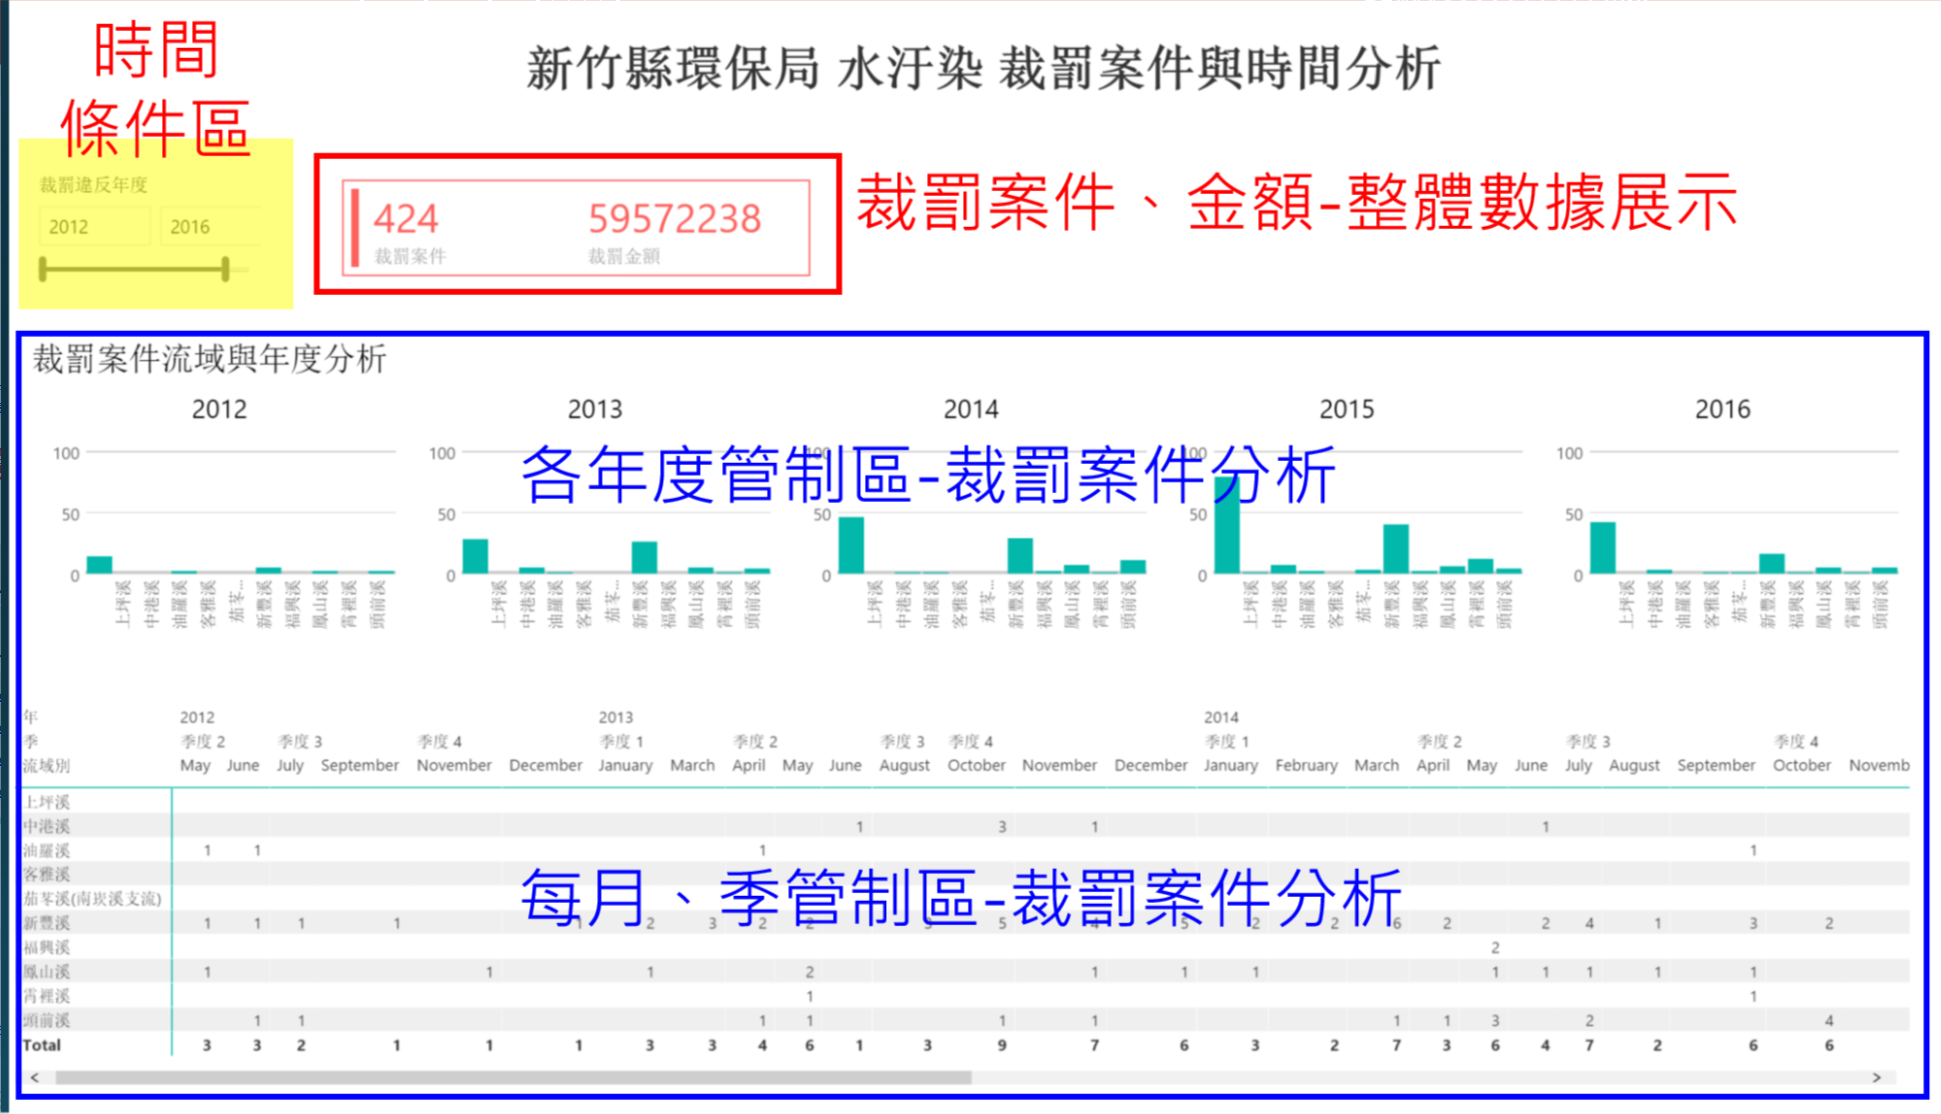

Layout of this report page (visuals, bound fields, positions):
{"tool":"powerbi","page":{"name":"2.2水汙染_裁罰案件時間分析","canvas":[1280,720],"ordinal":1},"visuals":[{"type":"slicer","fields":{"Values":["環保署_裁罰資料_水汙染.違反時間_年"]},"box":[7.7,90.7,164.8,150.4],"z":1},{"type":"textbox","box":[7.7,0,1271.9,64.1],"z":3},{"type":"pivotTable","fields":{"Values":["CountNonNull(環保署_裁罰資料_水汙染.列管狀況)"],"Columns":["環保署_裁罰資料_水汙染.違反時間.變化.日期階層.年","環保署_裁罰資料_水汙染.違反時間.變化.日期階層.季","環保署_裁罰資料_水汙染.違反時間.變化.日期階層.月","環保署_裁罰資料_水汙染.違反時間.變化.日期階層.日"],"Rows":["環保署_裁罰資料_水汙染.流域別"]},"box":[0,441.3,1258.6,261],"z":6},{"type":"multiRowCard","fields":{"Values":["環保署_裁罰資料_水汙染.事業名稱","環保署_裁罰資料_水汙染.裁罰金額"]},"box":[215.7,96.2,318.5,88.5],"z":7},{"type":"PBI_CV_73744D90_4DC9_4F18_8BA5_EE8FA5C98035","fields":{"Category":["環保署_裁罰資料_水汙染.流域別"],"Values":["CountNonNull(環保署_裁罰資料_水汙染.裁罰金額)"],"Columns":["環保署_裁罰資料_水汙染.違反時間_年"]},"box":[11.1,203.5,1248.7,215.7],"z":7}]}

Visuals, with their boxes in screenshot pixels (x1, y1, x2, y2), scaled from the page's 1280x720 canvas onto the 1941x1114 screenshot:
slicer - 環保署_裁罰資料_水汙染.違反時間_年: l=12, t=140, r=262, b=373
textbox: l=12, t=0, r=1940, b=99
pivotTable - CountNonNull(環保署_裁罰資料_水汙染.列管狀況) x 環保署_裁罰資料_水汙染.違反時間.變化.日期階層.年: l=0, t=683, r=1909, b=1087
multiRowCard - 環保署_裁罰資料_水汙染.事業名稱 x 環保署_裁罰資料_水汙染.裁罰金額: l=327, t=149, r=810, b=286
PBI_CV_73744D90_4DC9_4F18_8BA5_EE8FA5C98035 - 環保署_裁罰資料_水汙染.流域別 x CountNonNull(環保署_裁罰資料_水汙染.裁罰金額): l=17, t=315, r=1910, b=649
